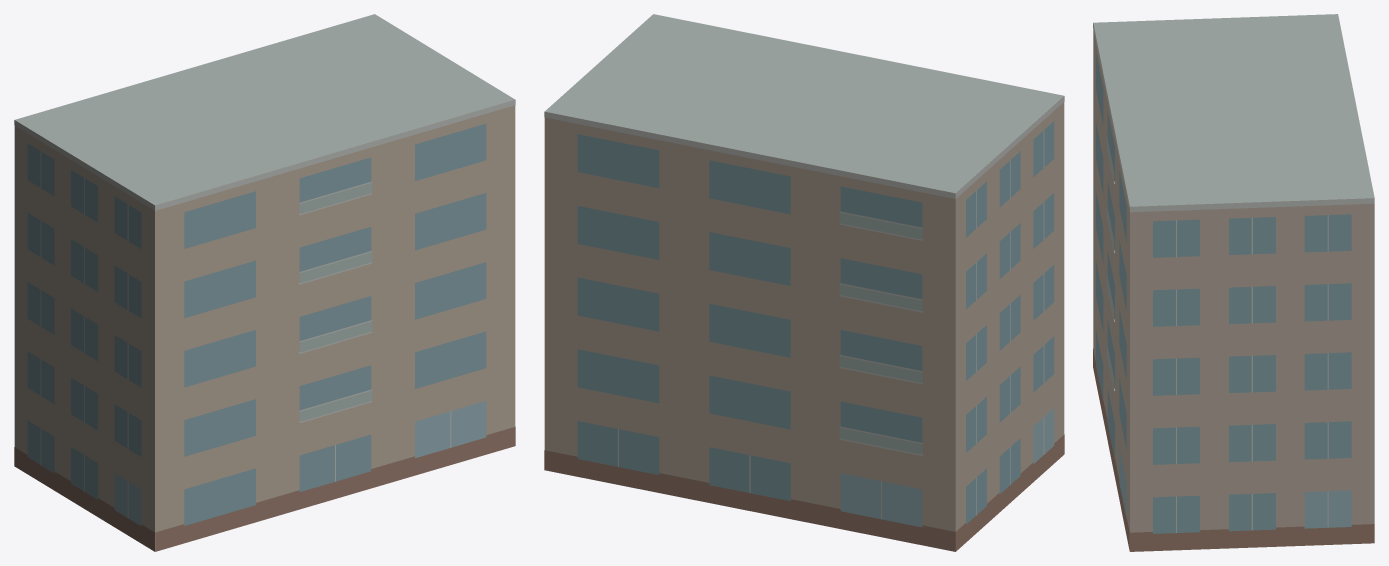
File: survey-upis-32904317.glb
The picture shows the model from 3 angles, left to right: view 1: azimuth 30°, elevation 25°; view 2: azimuth 150°, elevation 25°; view 3: azimuth 270°, elevation 25°; orthographic projection. The views are drawn at different scales.
Parts seen in each view (by area): view 1: survey-upis-32904317.tmp; view 2: survey-upis-32904317.tmp; view 3: survey-upis-32904317.tmp.
Part boxes in pixels (box(x1,y1,x2,y2)): survey-upis-32904317.tmp: box(14, 14, 515, 551); survey-upis-32904317.tmp: box(544, 14, 1064, 551); survey-upis-32904317.tmp: box(1093, 14, 1374, 551).
Size of the model in its own units: 18.28 by 15.25 by 11.29.
